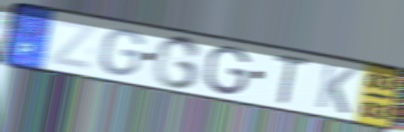G: (150, 34, 205, 91), (202, 45, 252, 96), (97, 28, 146, 78)
K: (313, 61, 360, 116)
T: (272, 51, 313, 106)
Z: (48, 16, 101, 73)
